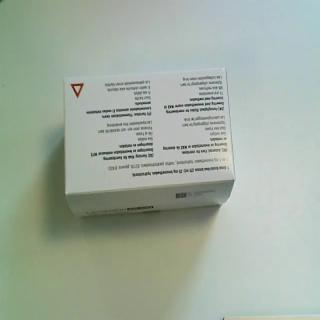levopidon25mg: (63, 67, 239, 220)
